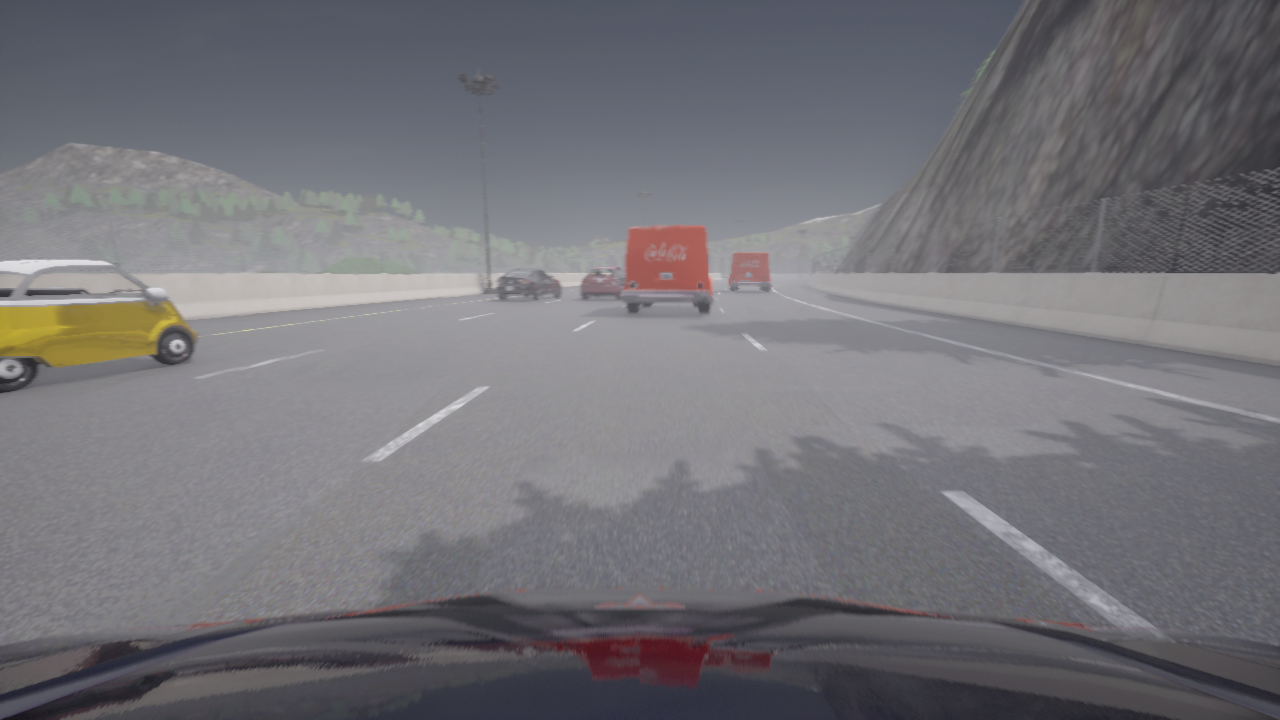cyclist: (0, 588, 1279, 719), (0, 259, 197, 393), (622, 226, 712, 313), (496, 268, 560, 300), (729, 253, 770, 291), (581, 267, 624, 299)
